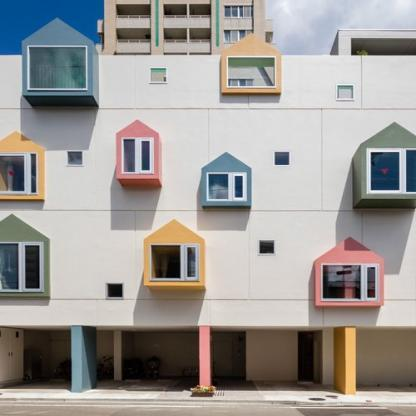Building Outline: (0, 17, 416, 395)
Door: (0, 327, 24, 384), (215, 342, 231, 376)
Facade: (0, 17, 416, 395)
Window: (29, 47, 86, 90), (369, 150, 416, 193), (0, 243, 41, 290), (323, 265, 377, 299), (152, 245, 198, 279), (0, 153, 36, 193), (228, 58, 275, 87), (209, 173, 245, 200), (124, 139, 151, 172), (260, 241, 275, 254), (275, 152, 290, 165), (338, 86, 353, 99), (151, 69, 166, 82), (108, 285, 123, 298), (68, 152, 82, 164)
